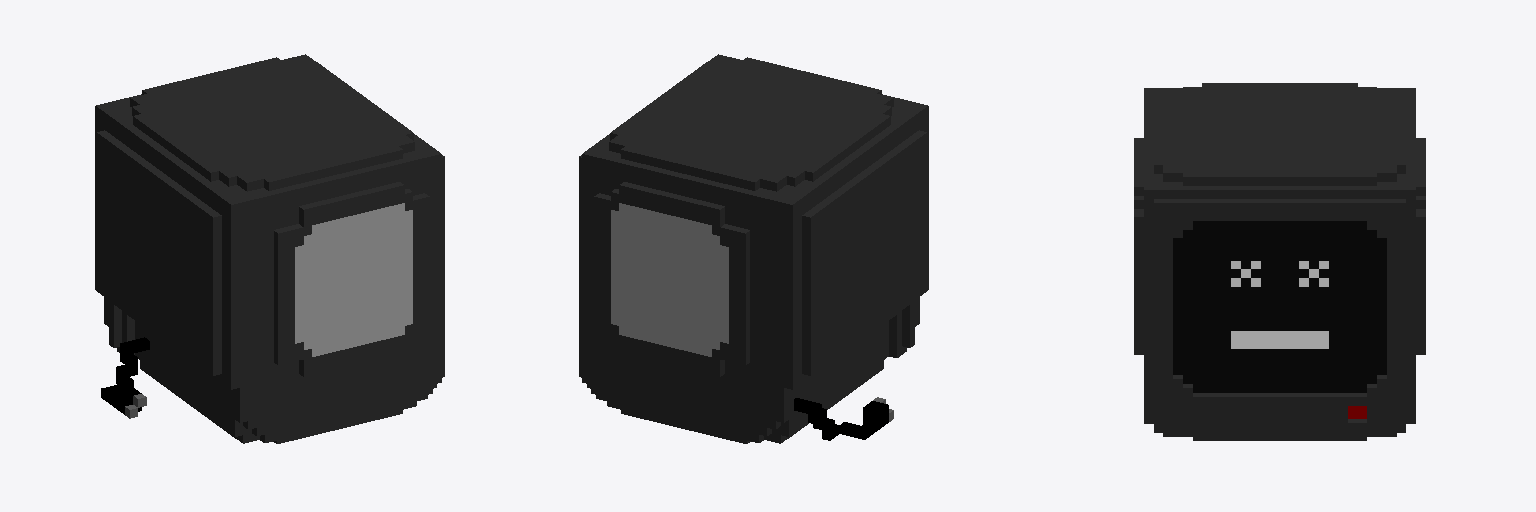
The picture shows the model from 3 angles: view 1: azimuth 30°, elevation 25°; view 2: azimuth 150°, elevation 25°; view 3: azimuth 270°, elevation 25°; orthographic projection.
Parts seen in each view (by area): view 1: Box; view 2: Box; view 3: Box.
Boxes of the visible parts, x1=… form: Box: x1=95, y1=54, x2=444, y2=443; Box: x1=579, y1=54, x2=928, y2=443; Box: x1=1134, y1=83, x2=1425, y2=440.
Size of the model in its own units: 1.5 by 1.5 by 1.5.
Materials: 1 (1 with a texture image).